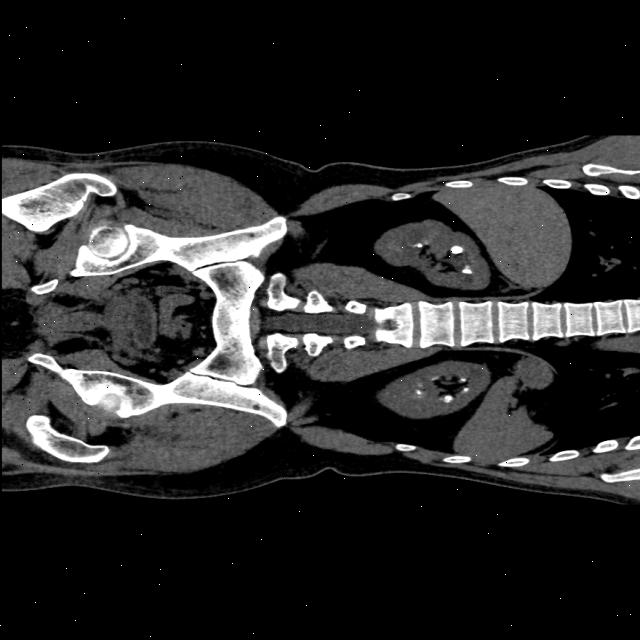kidneystone: (449, 245, 462, 255), (461, 266, 472, 274), (441, 395, 453, 402), (414, 242, 422, 249), (415, 389, 422, 395), (460, 378, 467, 382), (463, 388, 469, 391)
